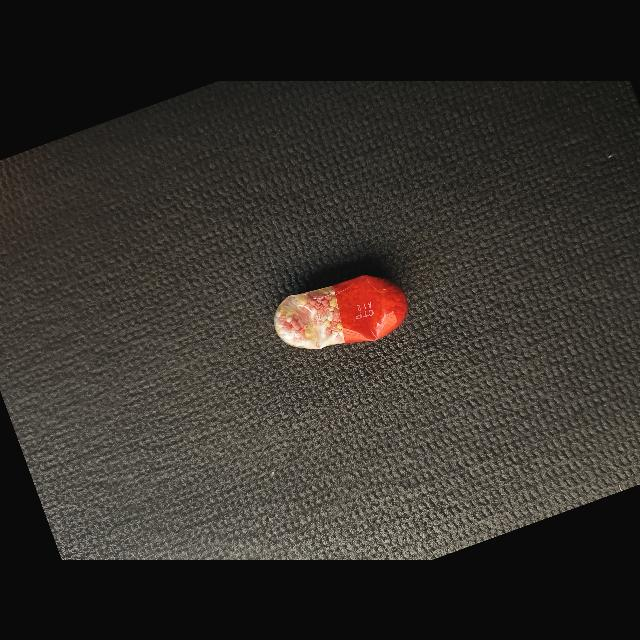Defective Capsule: (274, 274, 408, 349)
